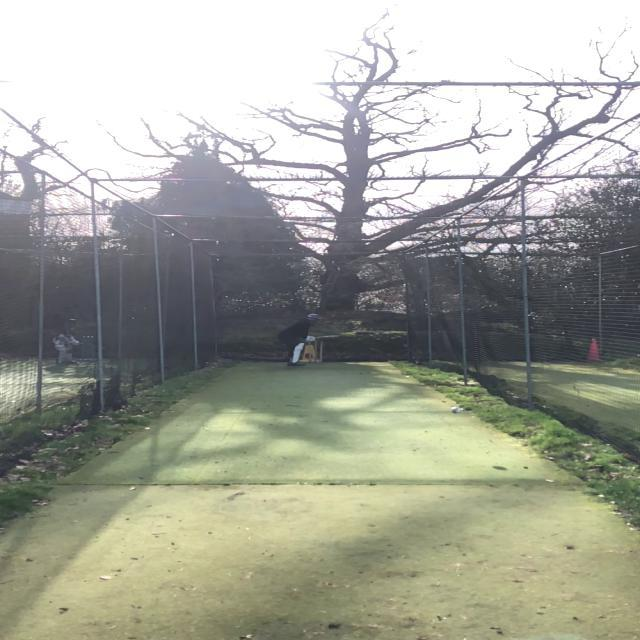ball: (449, 405, 462, 414)
